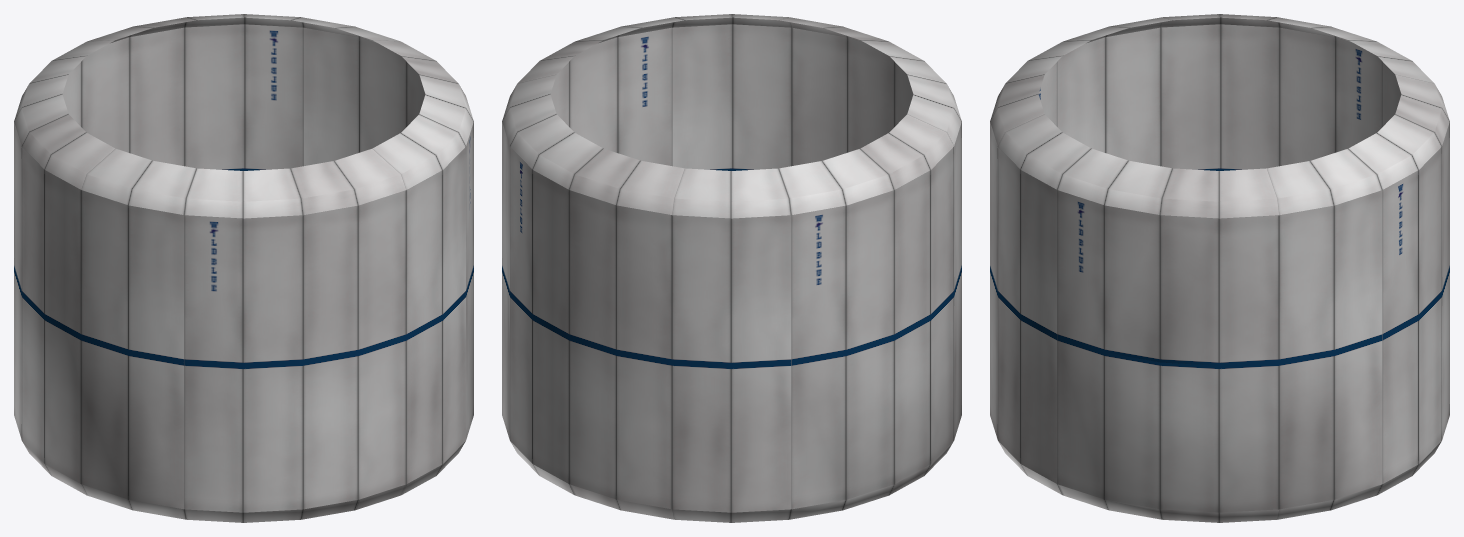
Rendered from Hub.FBX.
The picture shows the model from 3 angles, left to right: view 1: azimuth 30°, elevation 25°; view 2: azimuth 150°, elevation 25°; view 3: azimuth 270°, elevation 25°; orthographic projection.
Parts seen in each view (by area): view 1: MainBody; view 2: MainBody; view 3: MainBody.
Boxes of the visible parts, x1=… form: MainBody: x1=14, y1=14, x2=473, y2=522; MainBody: x1=502, y1=14, x2=961, y2=522; MainBody: x1=990, y1=14, x2=1449, y2=522.
Size of what is drawn, in the model's own units: 1.87 by 1.87 by 1.57.
1 material, 1 textured.
